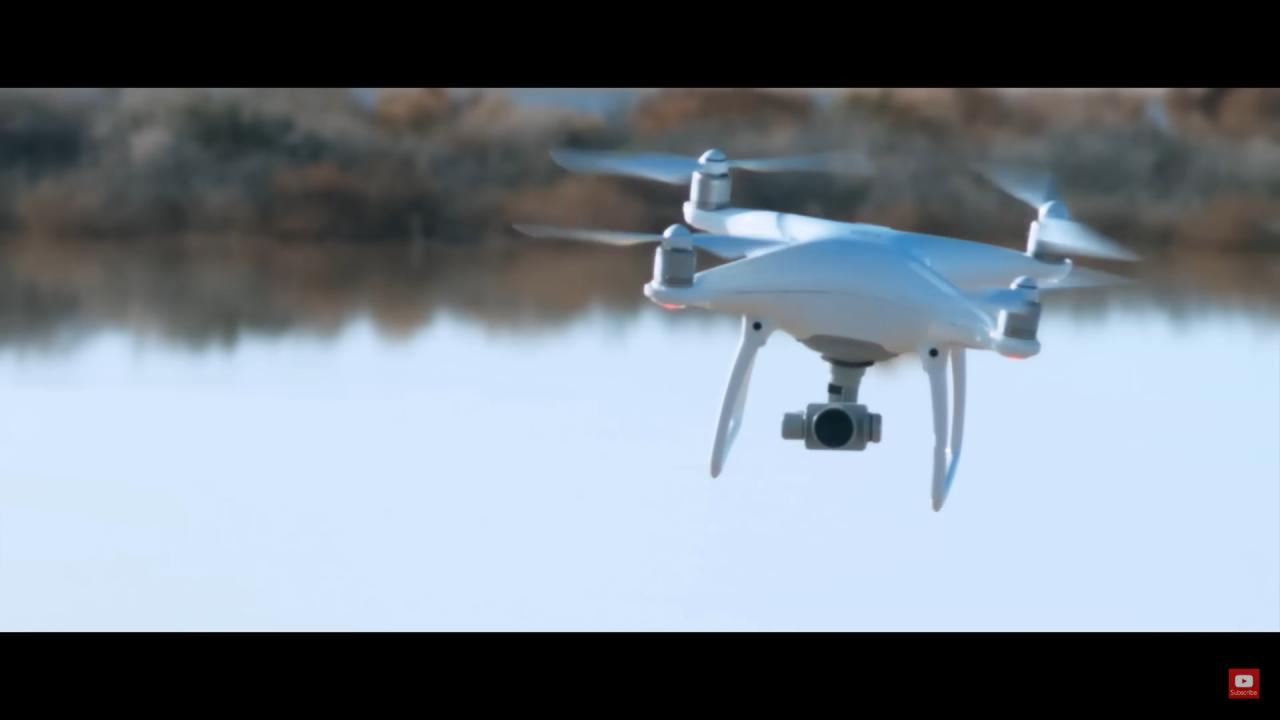Drone: (506, 103, 1181, 522)
